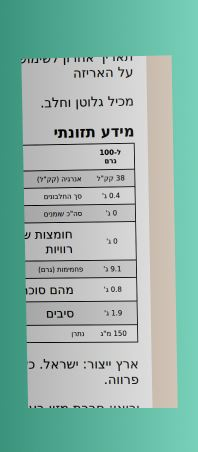carbs: (102, 264, 122, 274)
energy: (96, 173, 126, 184)
fat: (105, 208, 118, 218)
protein: (101, 190, 121, 201)
